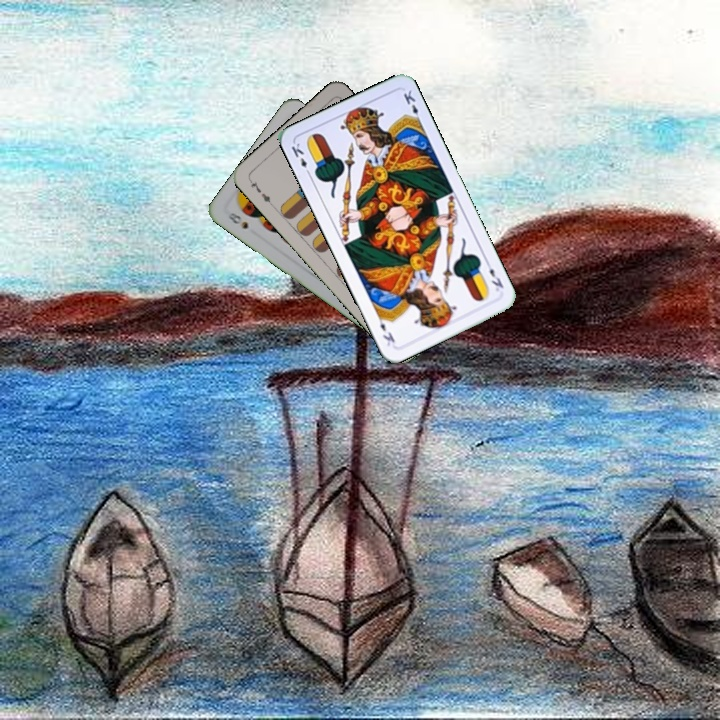E7: (245, 175, 276, 209)
EK: (287, 139, 313, 178), (482, 257, 506, 294)
S8: (224, 208, 251, 232)
